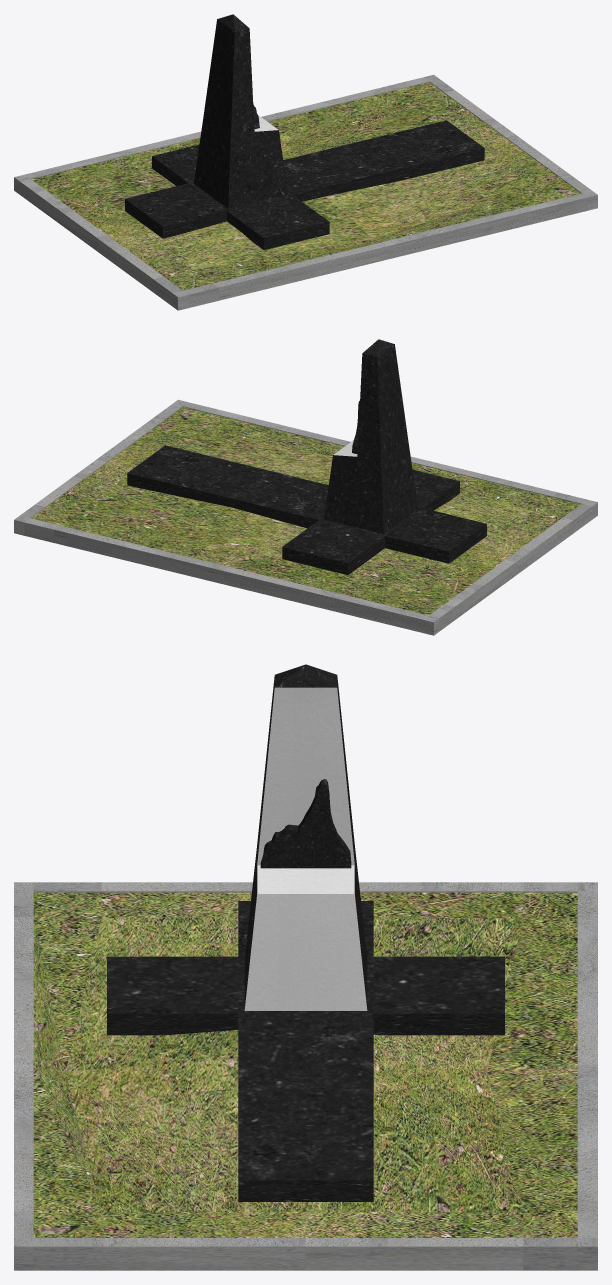
Rendered from MonumentoDedoDeDeus.gltf.
3 renders of one model, top to bottom at view 1: azimuth 30°, elevation 25°; view 2: azimuth 150°, elevation 25°; view 3: azimuth 270°, elevation 25°, orthographic. The views are drawn at different scales.
Visible parts, largest first — view 1: Cubo.001; view 2: Cubo.001; view 3: Cubo.001.
Part boxes in pixels (bbox=[...]): Cubo.001: bbox=[14, 14, 597, 310]; Cubo.001: bbox=[14, 339, 597, 635]; Cubo.001: bbox=[14, 664, 597, 1270].
Size of the model in its own units: 7.69 by 3.55 by 5.21.
3 materials, 3 textured.
